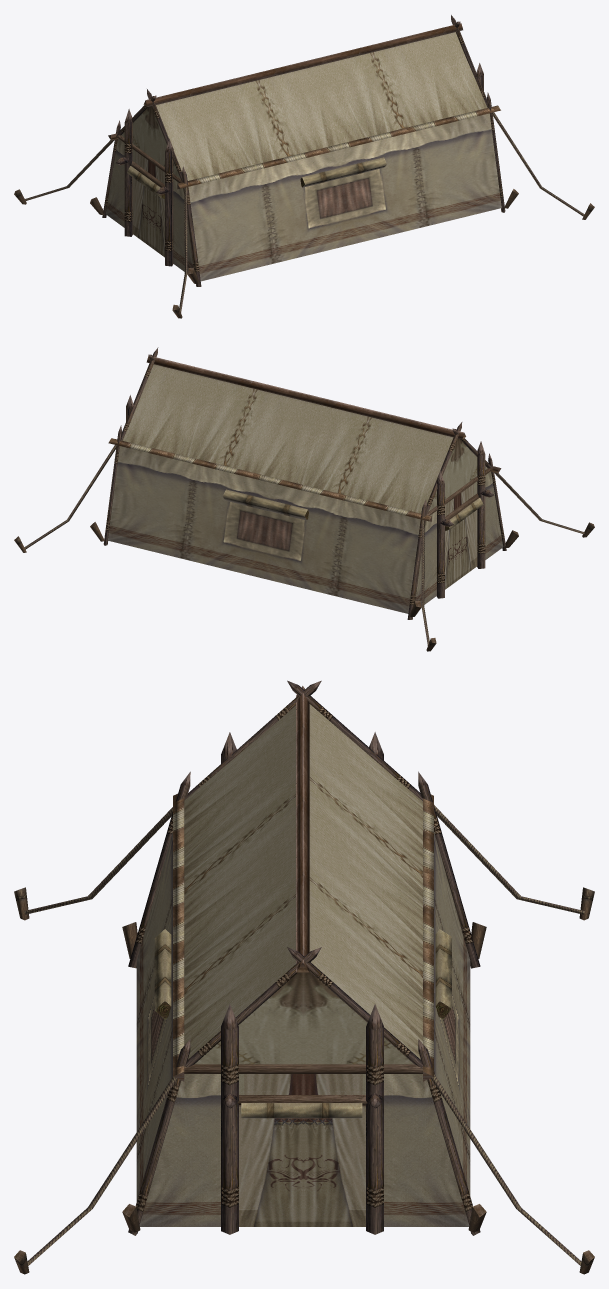
The model's file is zhangpeng_yc_42.FBX.
3 renders of one model, top to bottom at view 1: azimuth 30°, elevation 25°; view 2: azimuth 150°, elevation 25°; view 3: azimuth 270°, elevation 25°, orthographic. The views are drawn at different scales.
Visible parts, largest first — view 1: zhangpeng_yc_42; view 2: zhangpeng_yc_42; view 3: zhangpeng_yc_42.
Part boxes in pixels (<box>): zhangpeng_yc_42: <box>14,15,594,318</box>; zhangpeng_yc_42: <box>14,347,594,651</box>; zhangpeng_yc_42: <box>14,680,594,1274</box>.
Size of what is drawn, in the model's own units: 1535 by 555 by 1018.
